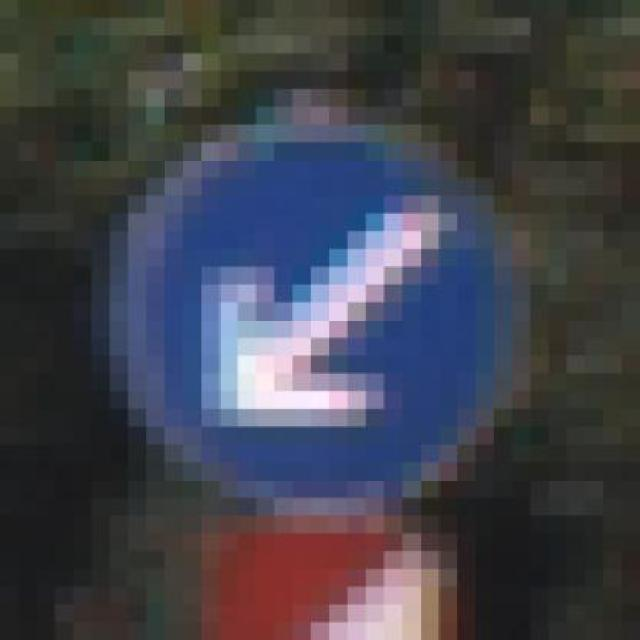Keep-Left: (55, 107, 567, 516)
